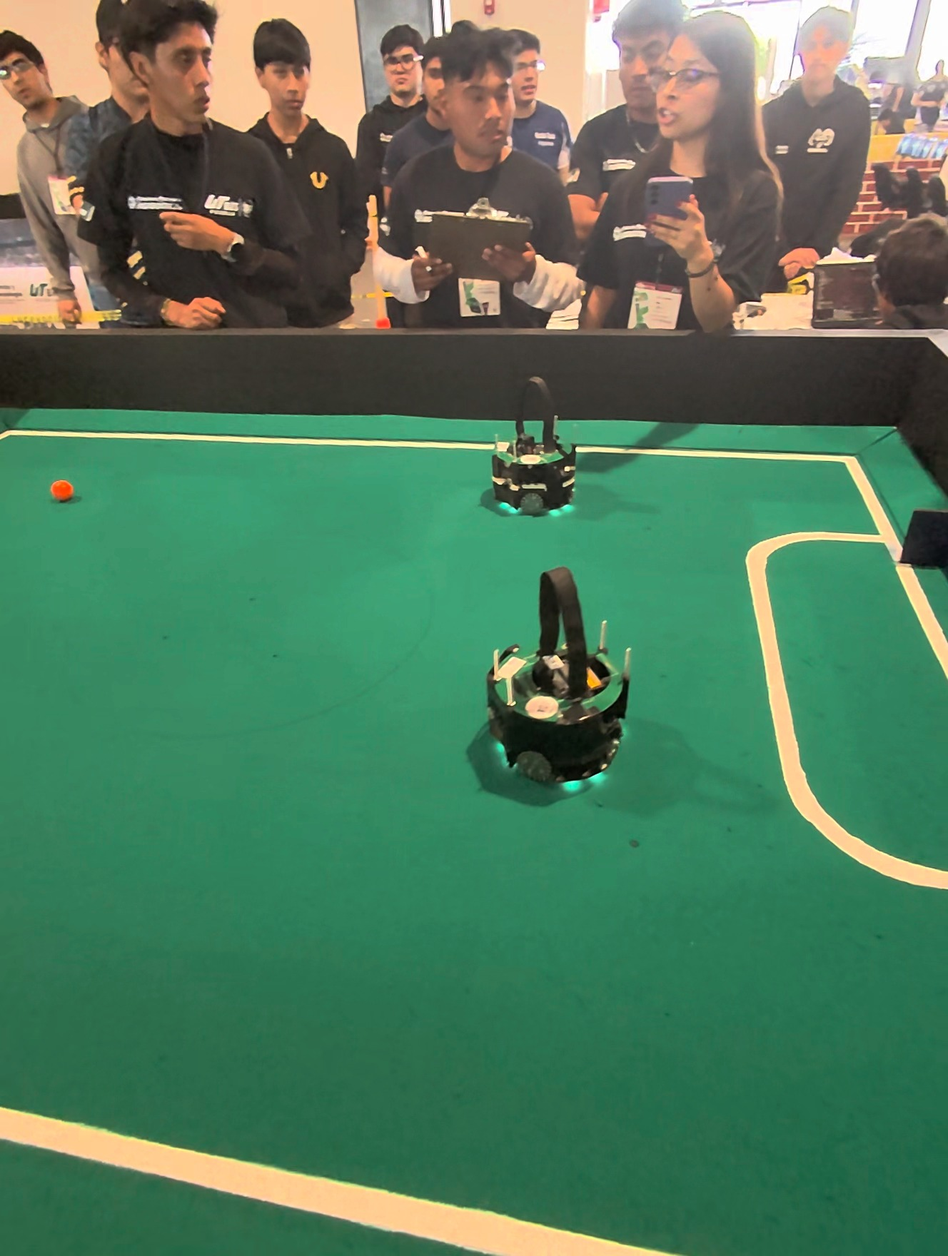Robot: (467, 556, 646, 816), (486, 368, 583, 525)
pelota: (44, 468, 81, 514)
